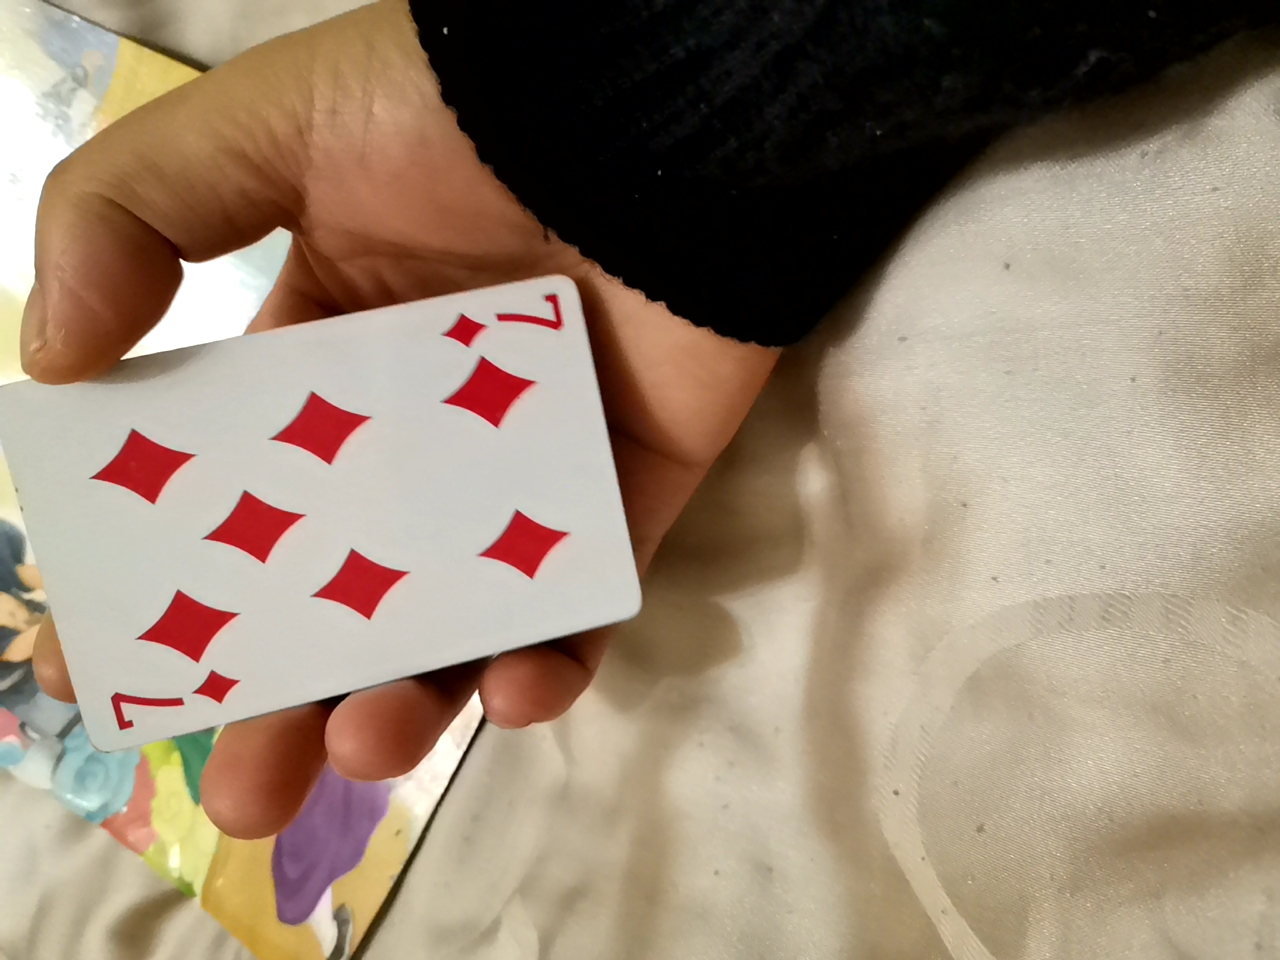fk 7: (8, 276, 624, 761)
